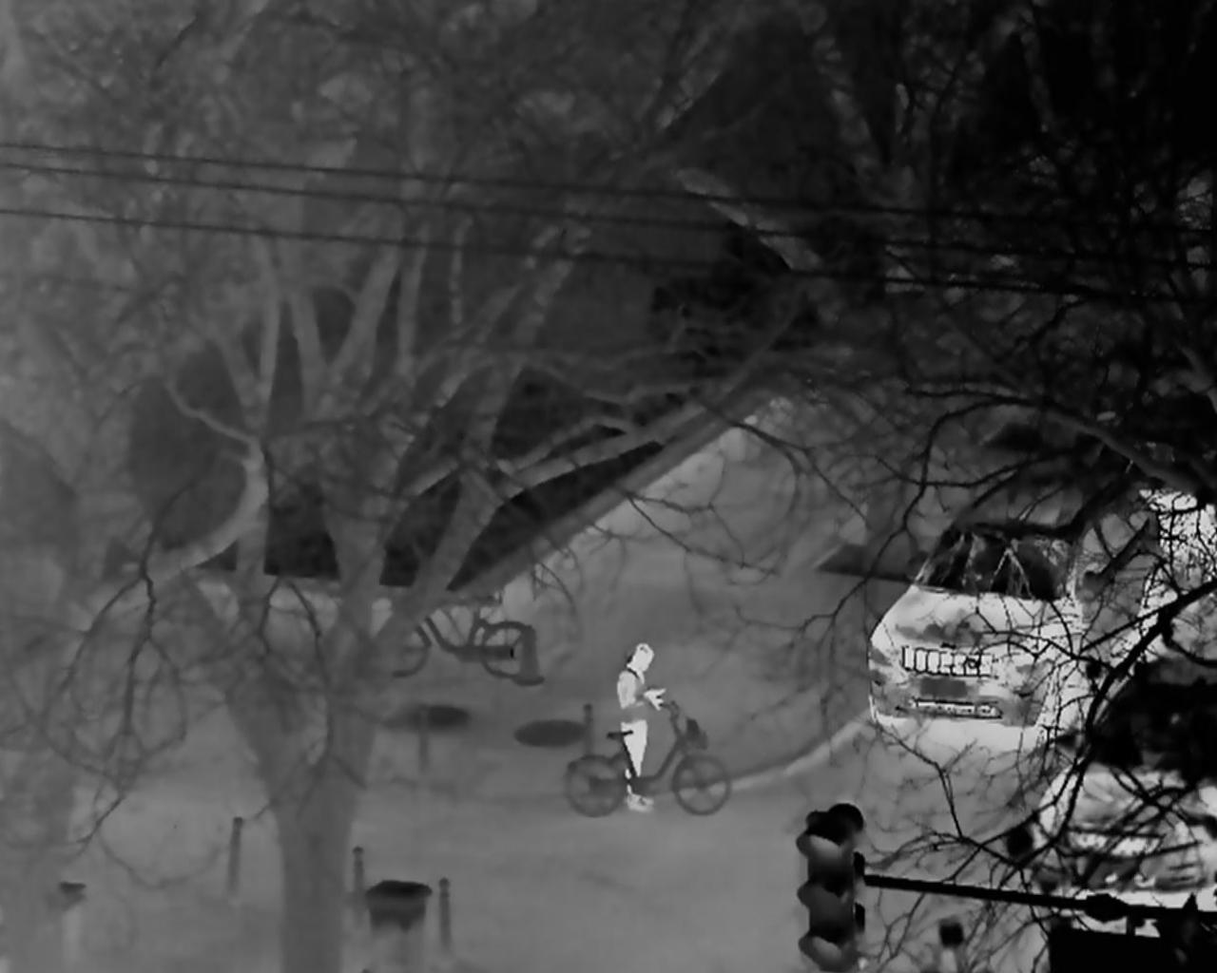person: (612, 641, 668, 813)
